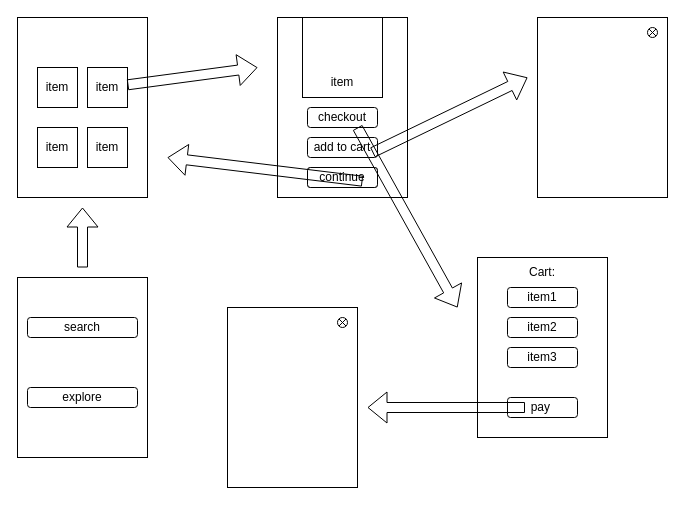
This 685x505 diagram has some shape labels left out. The shapes that lost their labels are listed below. From the top down, each one's box as (x1, y1, x2, y2) in pixels, then its label:
(536, 16, 668, 198): Added to Card !
(226, 306, 358, 488): Order Complete !
